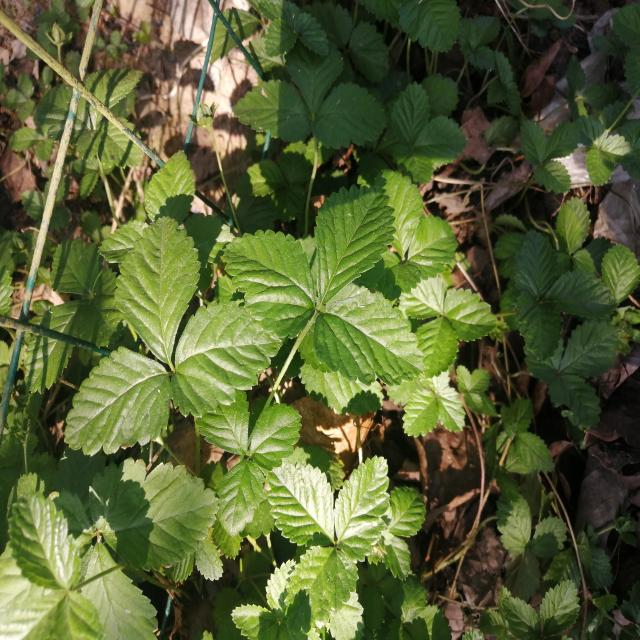Mock_strawberry: (68, 216, 274, 440), (244, 192, 421, 408), (262, 443, 409, 609)
